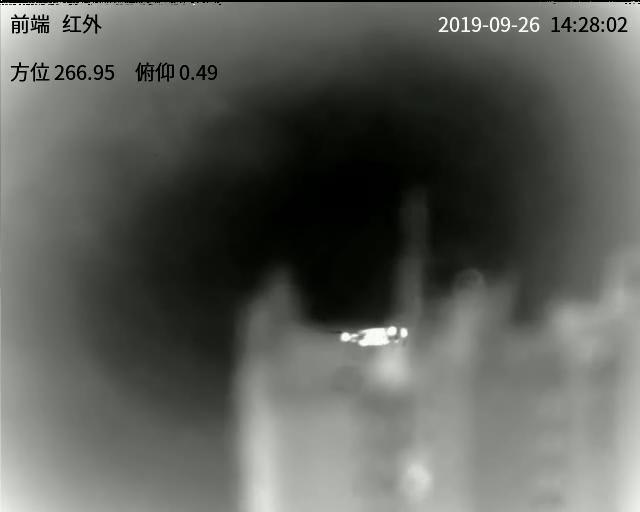uav: (338, 320, 411, 350)
